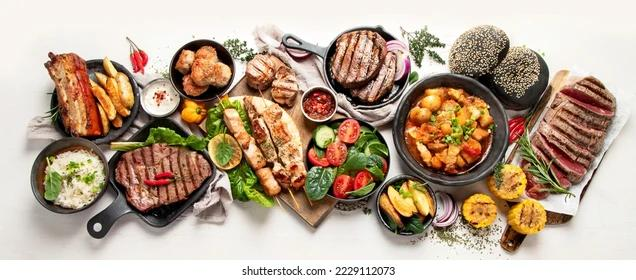Braised Crucian Carp: (508, 70, 629, 224), (391, 73, 509, 188), (107, 116, 216, 231), (316, 25, 411, 110), (50, 58, 138, 144), (304, 115, 388, 205), (29, 135, 109, 214), (168, 38, 235, 103)
